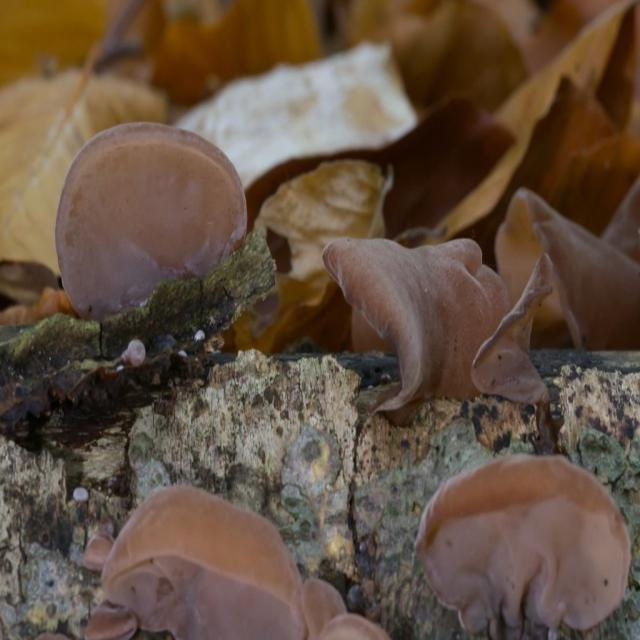Matang: (50, 116, 256, 326), (413, 450, 634, 640), (320, 227, 511, 413), (100, 480, 312, 640), (470, 244, 560, 418), (76, 599, 138, 640), (80, 525, 118, 568)
